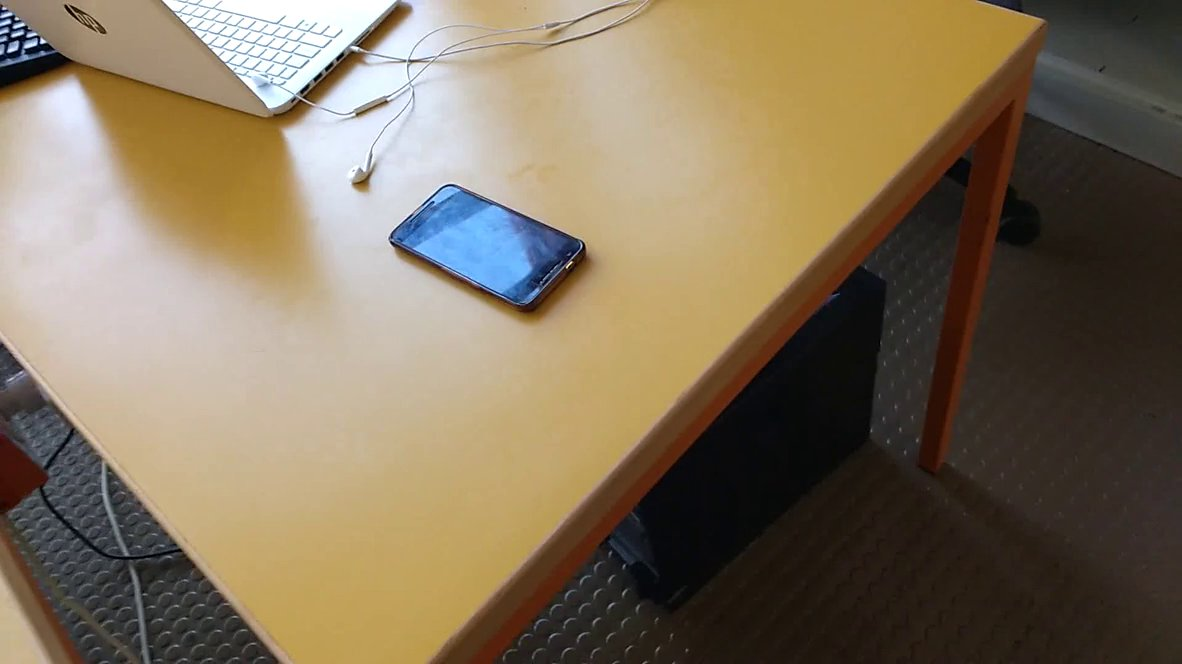phone: (380, 176, 600, 324)
